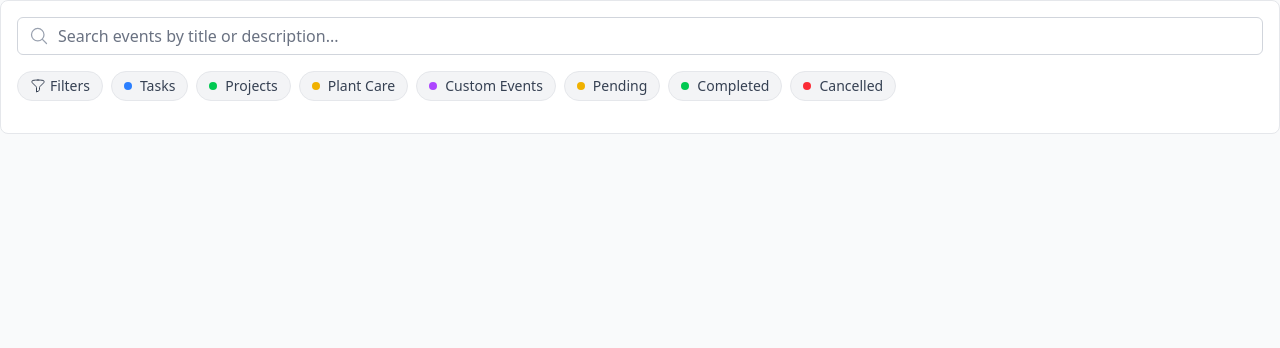
Scenario: CalendarFilters › hides advanced filters when filter button is clicked again
Note: Show advanced filters
Click the button "Filters".
click(60, 86)  # box [17, 71, 103, 101]
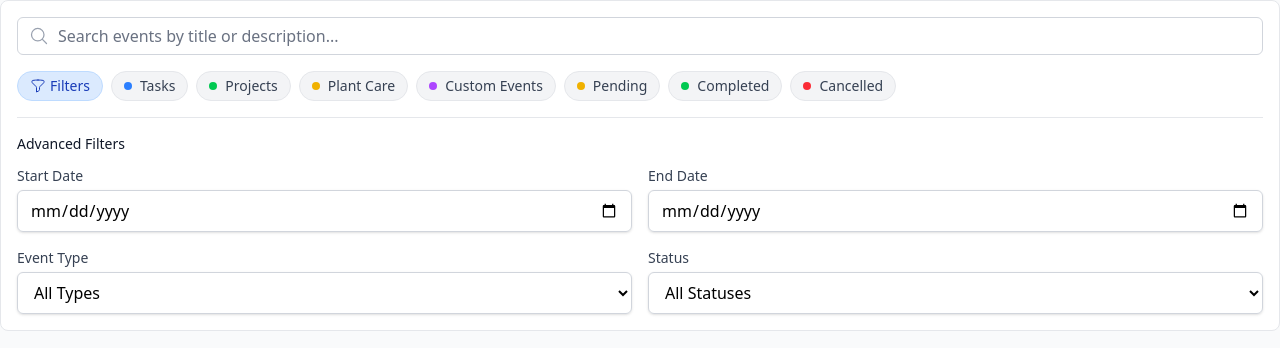
Check: the heading "Advanced Filters" is shown, box [17, 134, 125, 153]
Note: Hide advanced filters
Click the button "Filters".
click(60, 86)  # box [17, 71, 103, 101]
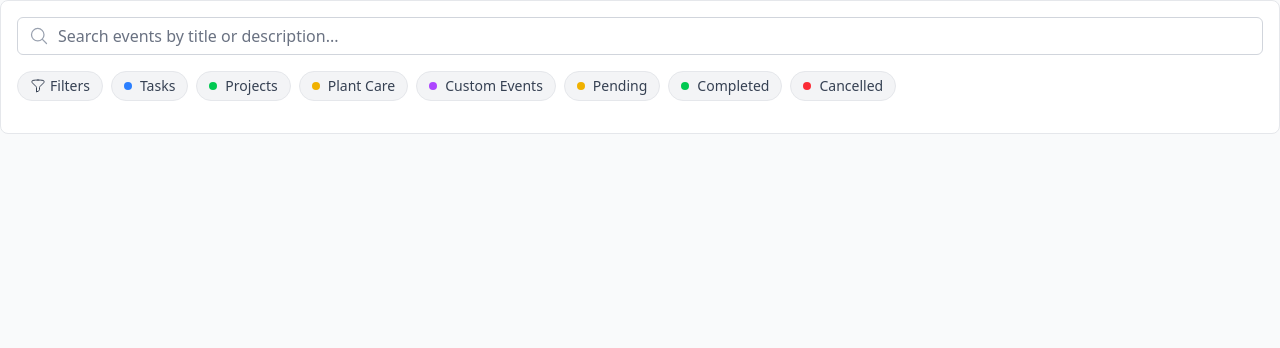
Check: the heading "Advanced Filters" is gone
